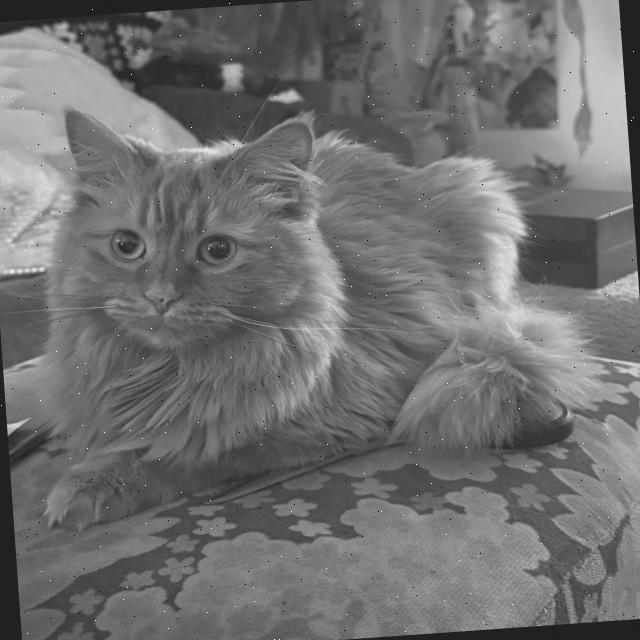maine_coon_cat: (18, 74, 352, 448)
